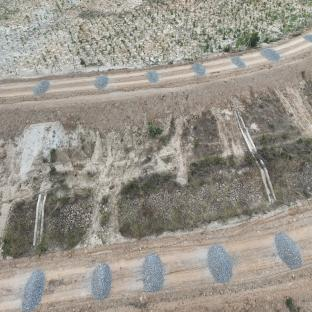rock_toe: (40, 173, 262, 236), (273, 156, 312, 201)
slope_drain: (237, 113, 279, 205), (33, 188, 50, 245)
